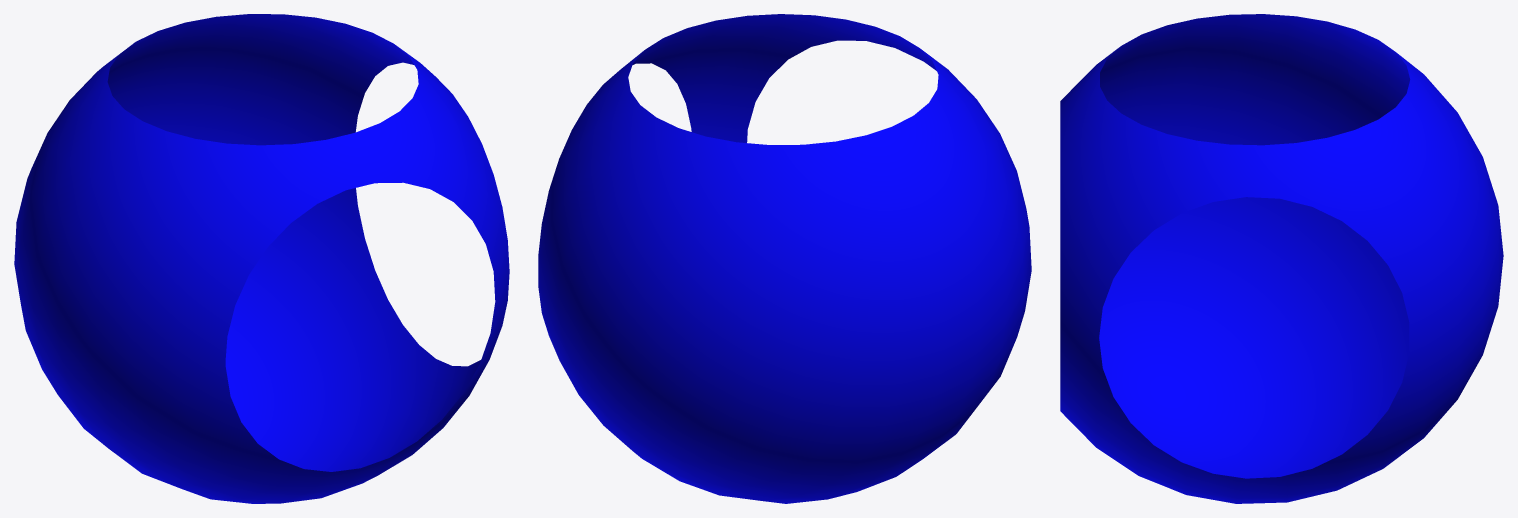
Rendered from frame_2.obj.
3 renders of one model, left to right at view 1: azimuth 30°, elevation 25°; view 2: azimuth 150°, elevation 25°; view 3: azimuth 270°, elevation 25°, orthographic.
Bounding box in the file's own units: 0.0142 × 0.0142 × 0.0142.
